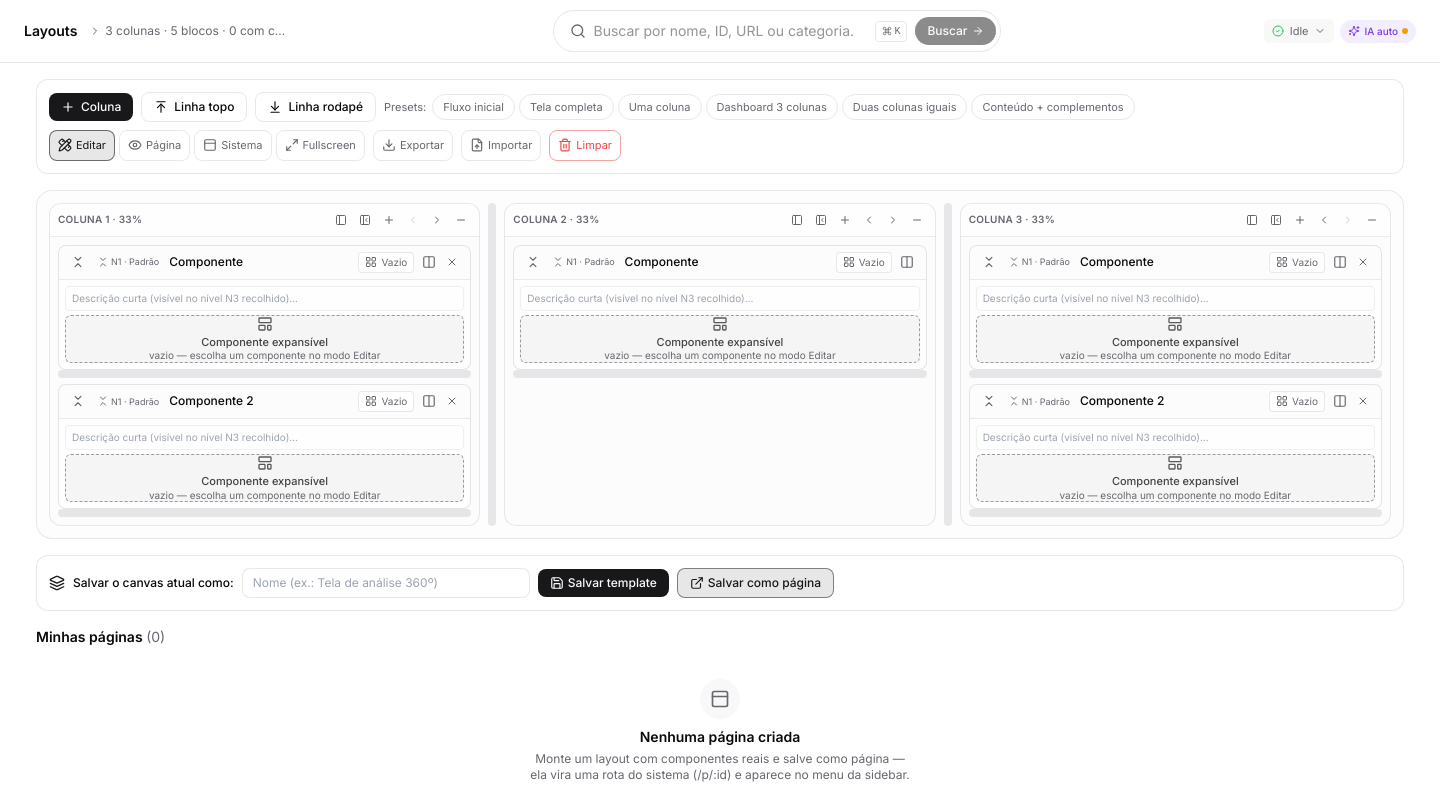
LayoutBuilder (UI) › adicionar coluna + dividir reproduz o fluxo do usuário (4 colunas, 7 blocos)
This screenshot has width=1440, height=810.
What coordinates should you click on to do the following:
click the button with aria-label "Adicionar coluna"
I would click on:
 (91, 107)
Its box is [49, 93, 133, 121].
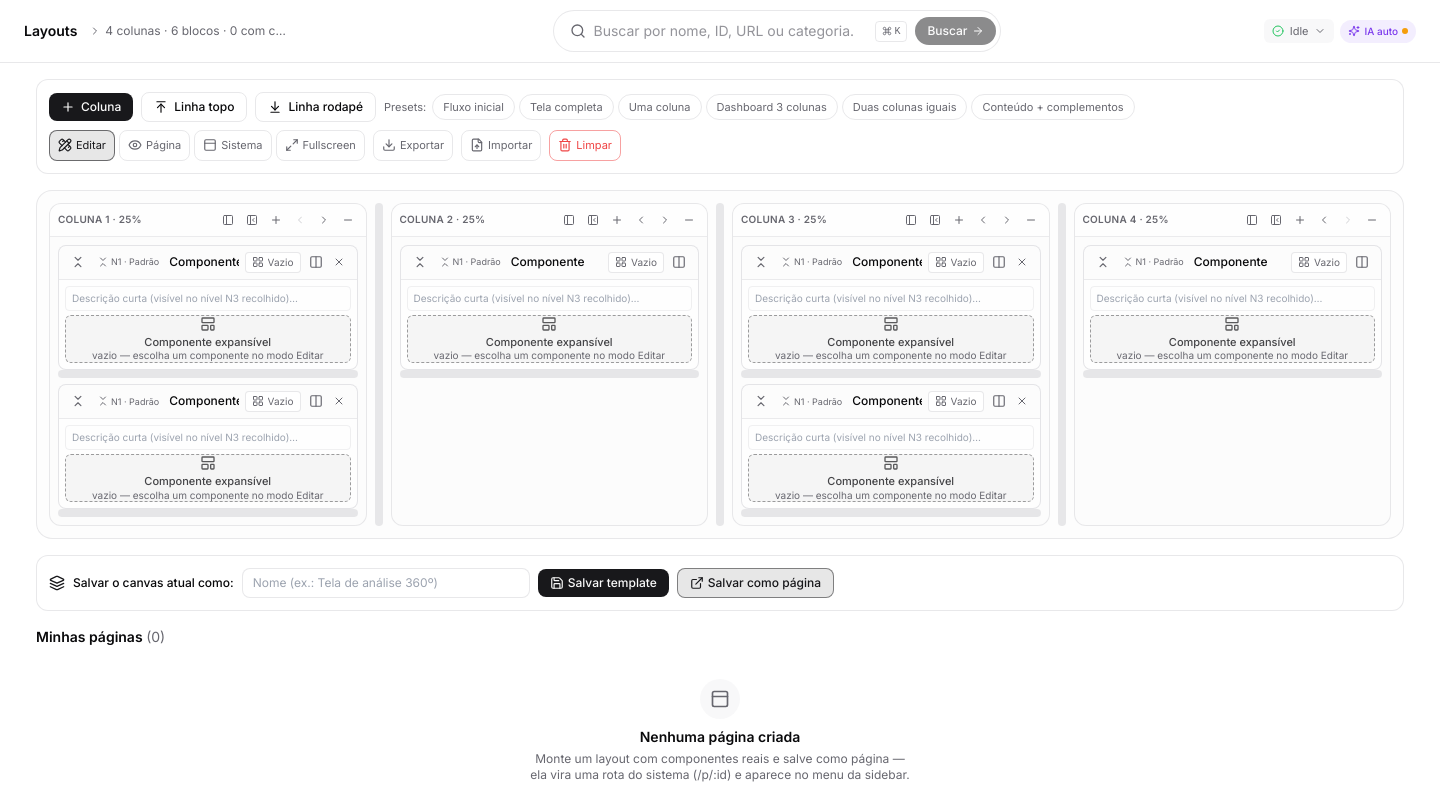
What coordinates should you click on to do the following:
click the button named "Dividir Coluna 4"
I would click on:
 (1300, 220)
Its box is [1290, 210, 1310, 230].
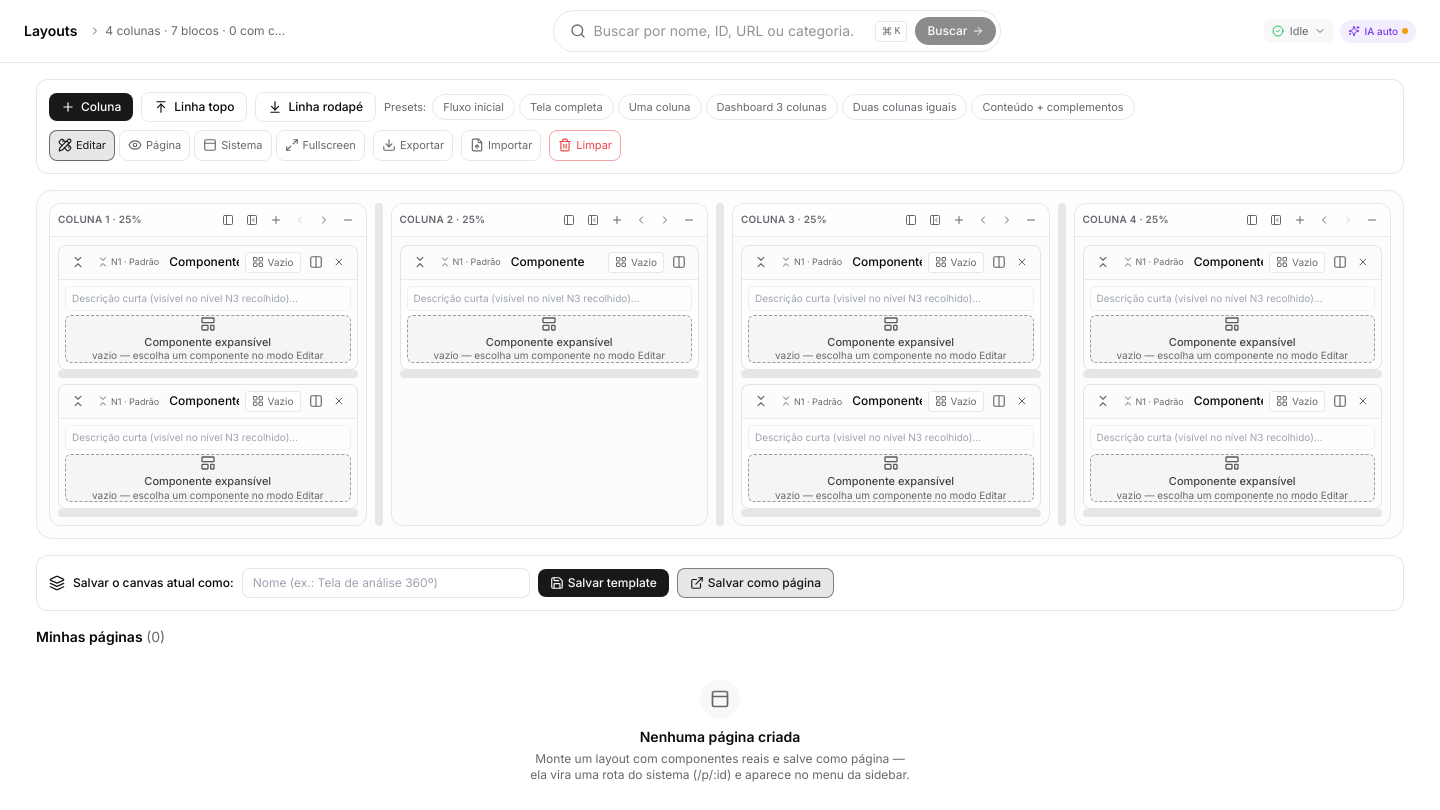
Now the text "Componente expansível" is shown 7 times
